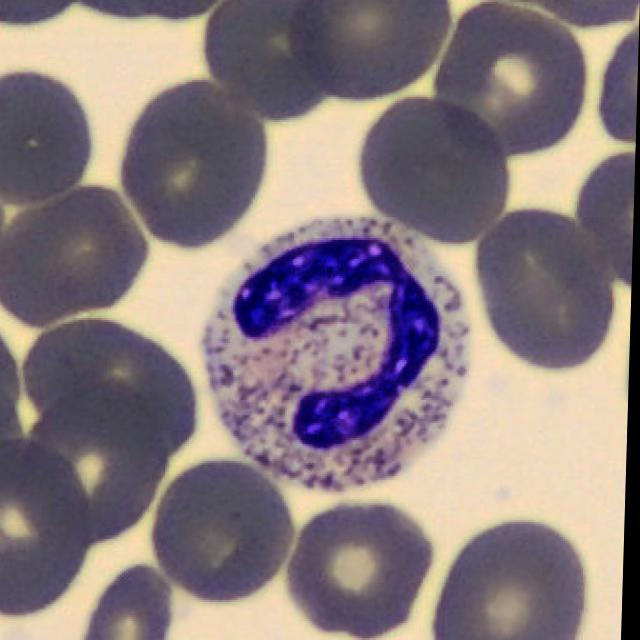Neutrofilo segmentado: (203, 219, 478, 512)
